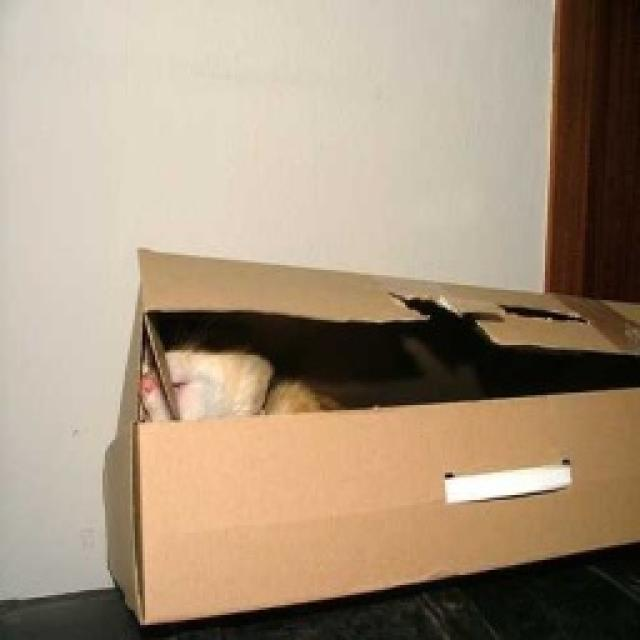box: (117, 217, 640, 607)
